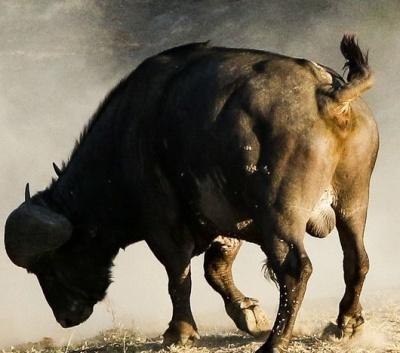buffalo: (5, 35, 378, 352)
